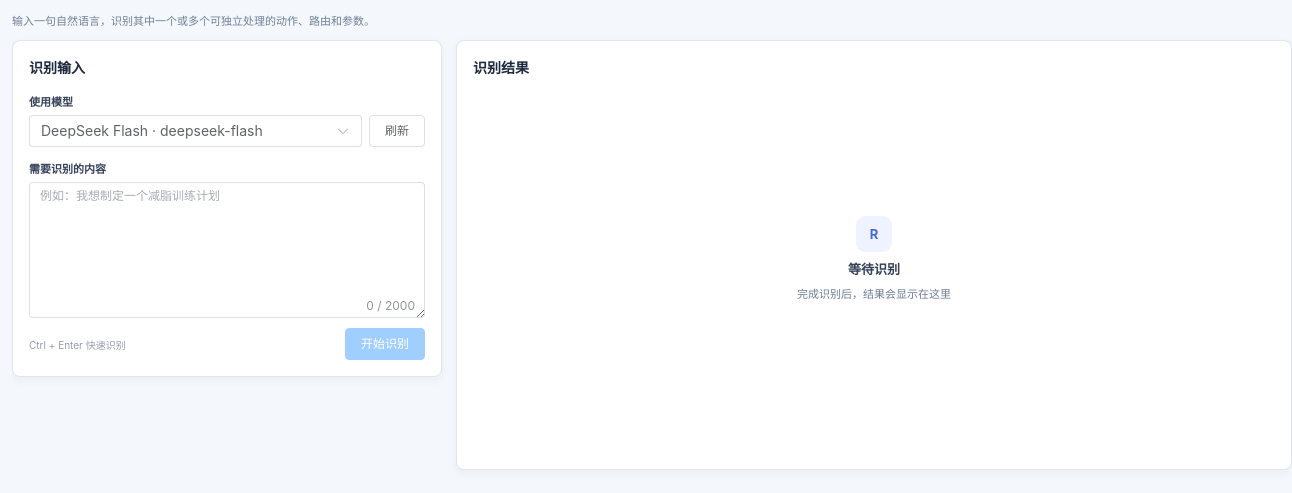
Test: keeps input and shows a readable provider failure
The width and height of the screenshot is (1292, 493).
Type "保留这句话" into the text box labelled "需要识别的内容" at (227, 250), box [29,182,425,318]
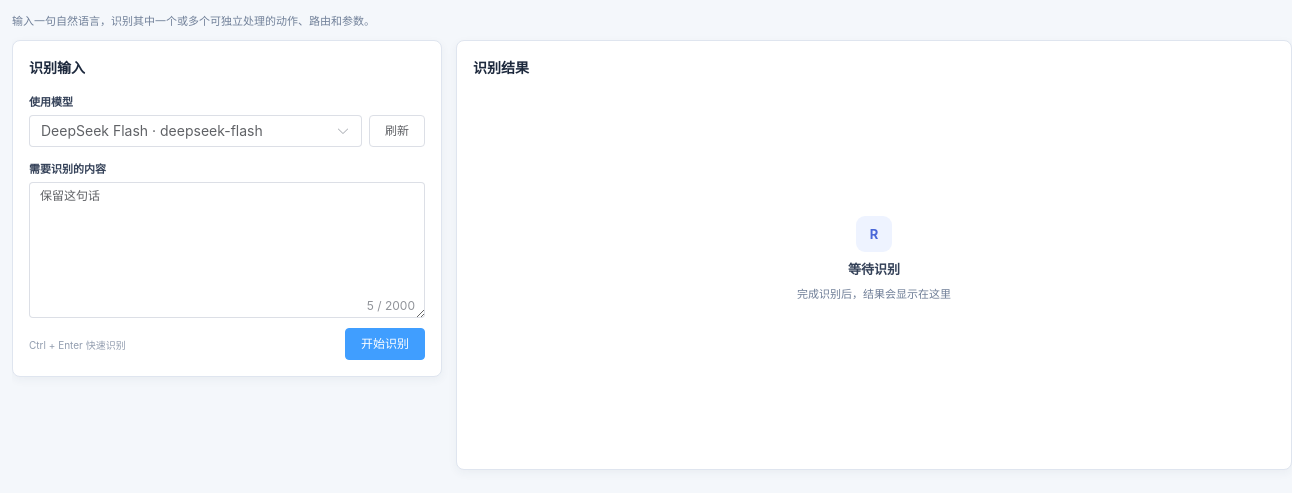
Click the button "开始识别" at (385, 344), box [345,328,425,360]
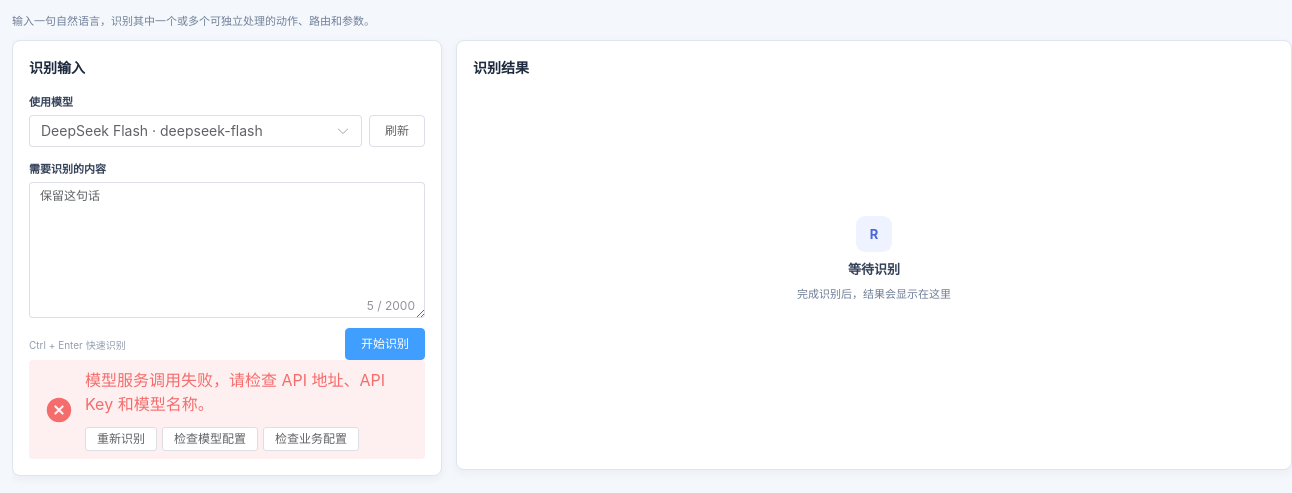
Expected: the text "模型服务调用失败，请检查 API 地址、API Key 和模型名称。" is shown, [85,368,409,416]
